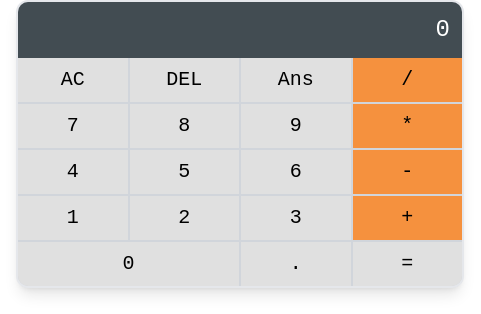
Test: Calculator › should append operators to the input
Click the button "1".
click(73, 218)  # box top-left (18, 196), bottom-right (128, 240)
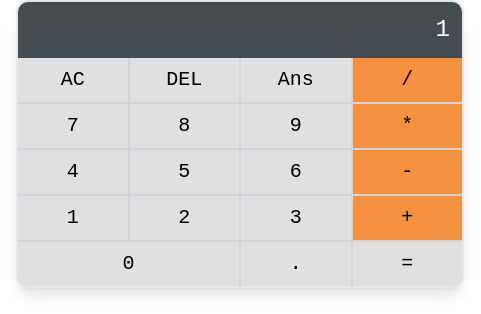
Click the button "+".
click(407, 218)  # box top-left (352, 196), bottom-right (462, 240)
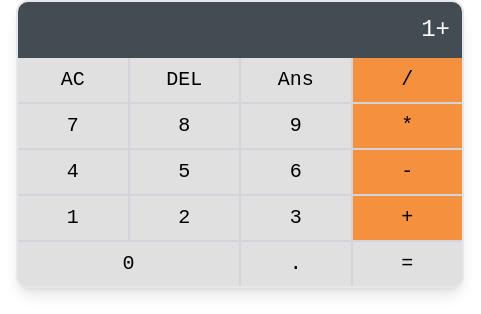
Now the text with test id "input" reads "1+", box top-left (421, 16), bottom-right (450, 43)
